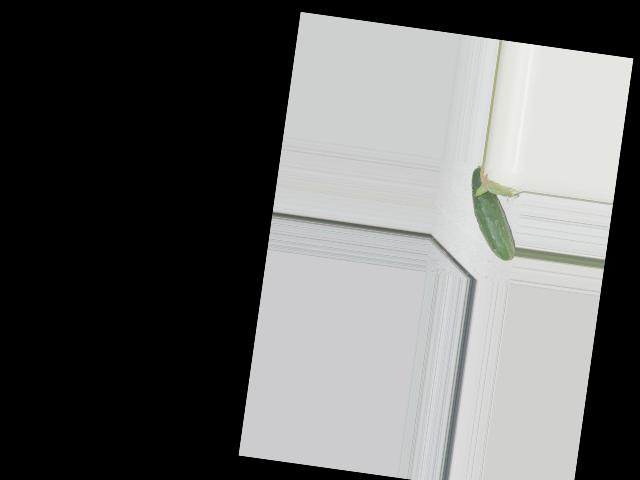cucumber: (461, 165, 526, 262)
